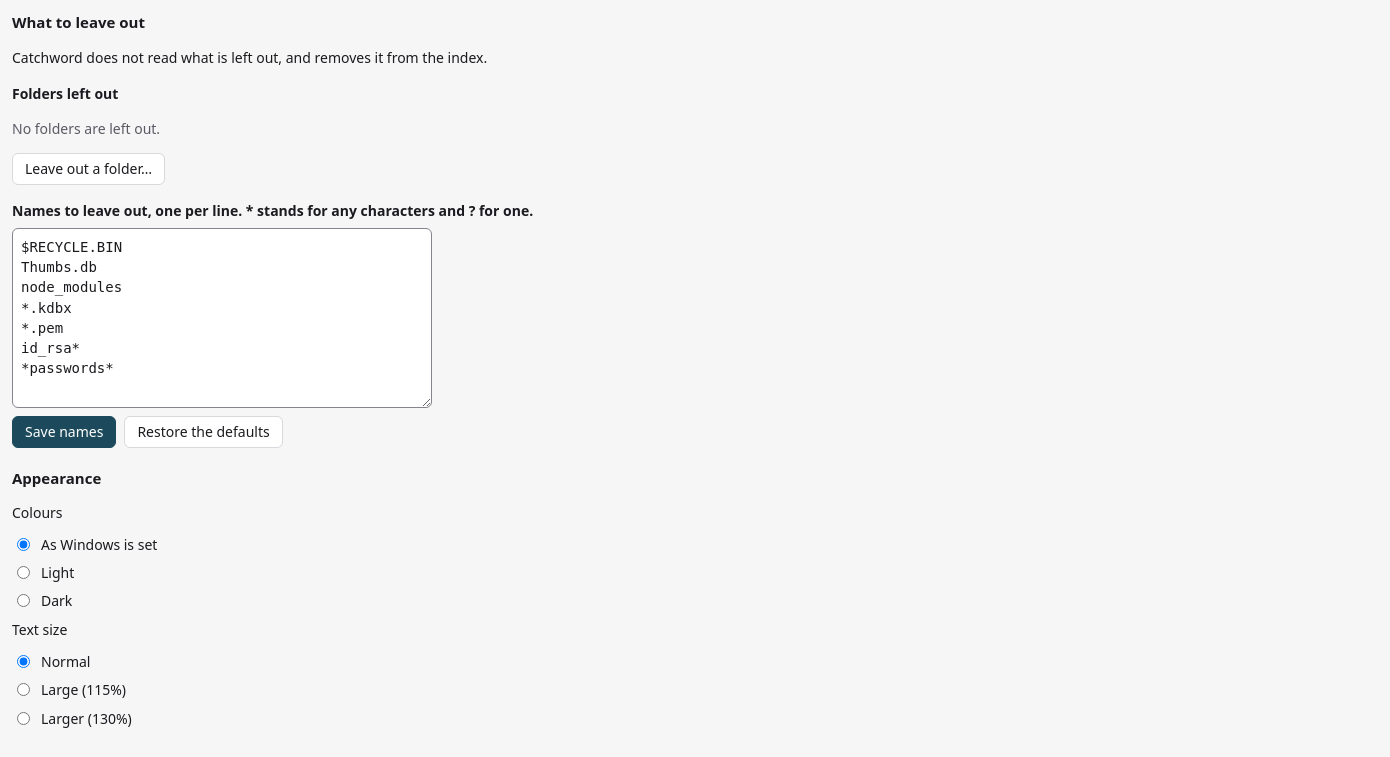
the settings screen › leaves out a folder and includes it again
Expected: the text "No folders are left out." is shown, x1=12 y1=119 x2=160 y2=138
Click the button "Leave out a folder…".
click(89, 169)  # box x1=12 y1=153 x2=165 y2=185
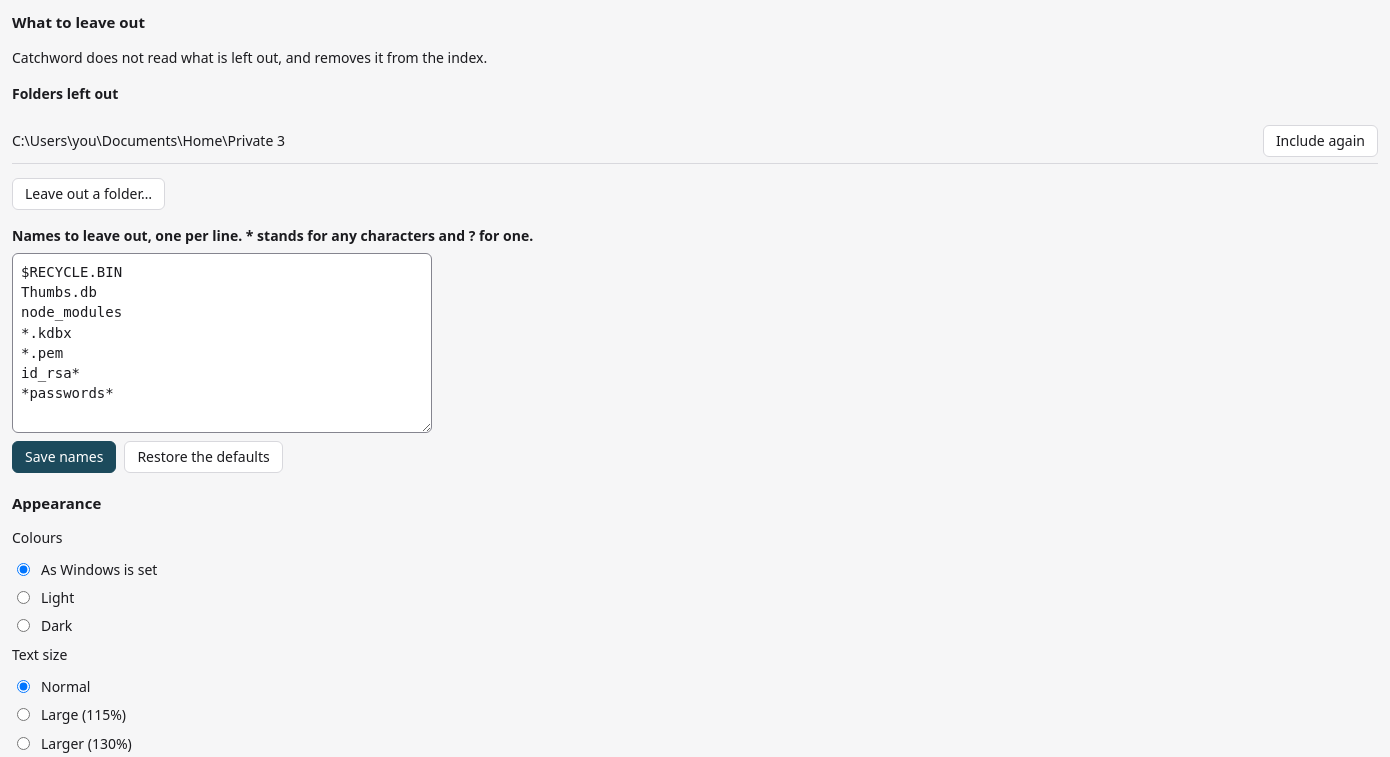
Result: the text "C:\\Users\\you\\Documents\\Home\\Private 3" is shown at x1=12 y1=131 x2=285 y2=151
Click the button "Include again".
click(1320, 141)  # box x1=1263 y1=125 x2=1378 y2=157
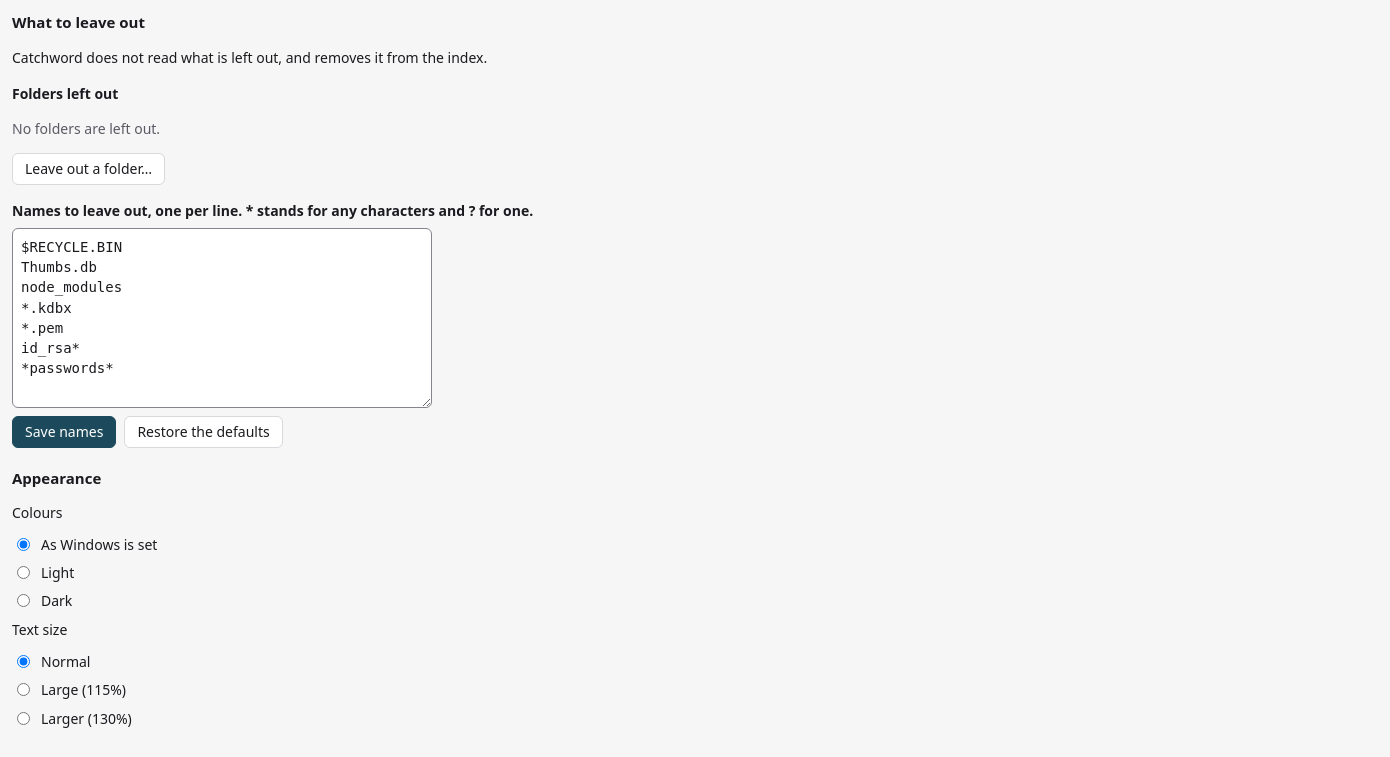
Result: the text "No folders are left out." is shown at x1=12 y1=119 x2=160 y2=138
